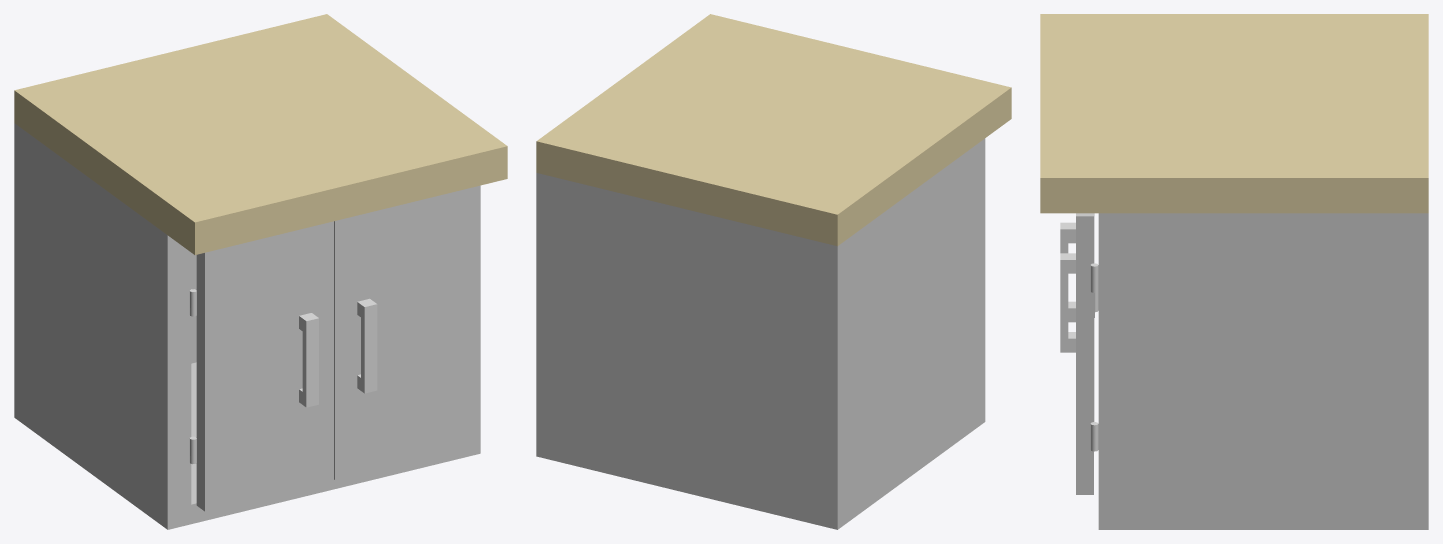
Rendered from CounterWithCabinet.glb.
3 renders of one model, left to right at view 1: azimuth 30°, elevation 25°; view 2: azimuth 150°, elevation 25°; view 3: azimuth 270°, elevation 25°, orthographic. The views are drawn at different scales.
Visible parts, largest first — view 1: Counter, Door_Linked1, Door_Linked2; view 2: Counter; view 3: Counter, Door_Linked2, Door_Linked1.
Boxes of the visible parts, box(x1,y1,x2,y2) form: Counter: box(14, 14, 507, 529); Door_Linked1: box(196, 221, 333, 511); Door_Linked2: box(334, 189, 463, 479); Counter: box(536, 14, 1011, 529); Counter: box(1040, 14, 1428, 529); Door_Linked2: box(1060, 213, 1094, 494); Door_Linked1: box(1060, 213, 1094, 415).
Bounding box in the file's own units: 1 × 1 × 1.
